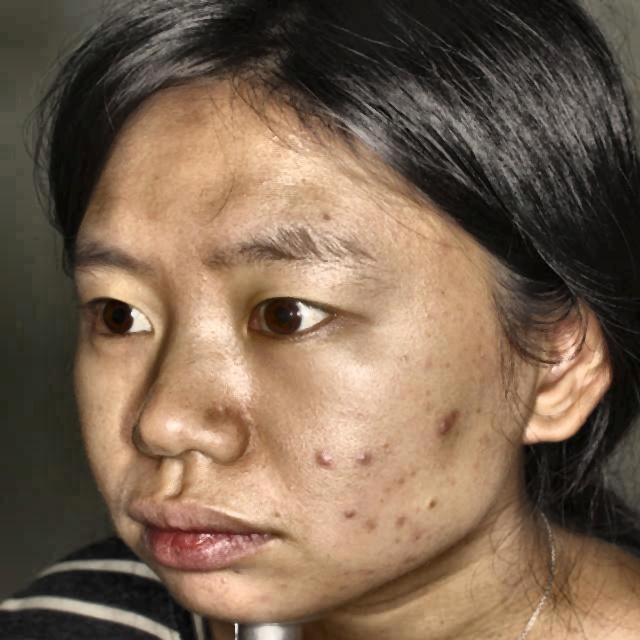pustule: (304, 446, 338, 475), (429, 416, 467, 440), (350, 446, 374, 471), (390, 507, 416, 529), (334, 506, 363, 519), (363, 522, 380, 537)
